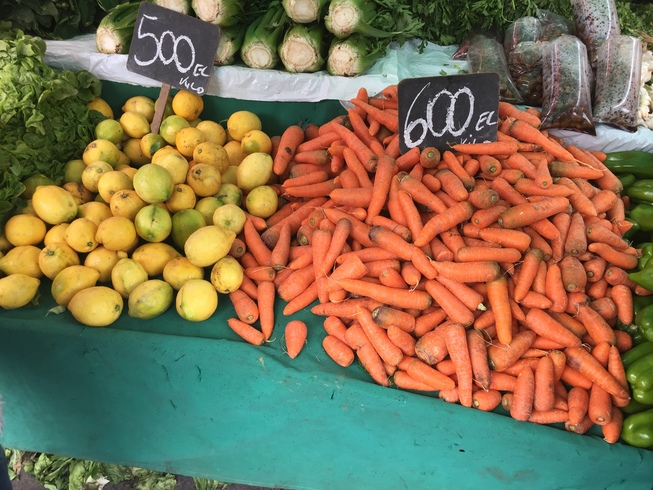precio: (396, 70, 506, 158), (130, 1, 224, 101)
